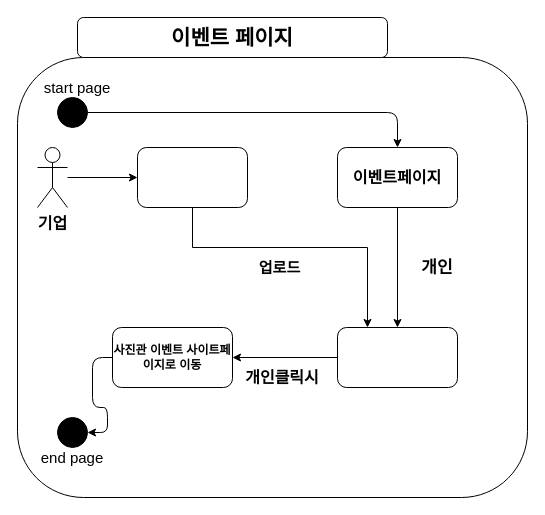
The diagram is 545 pixels wide and 515 high, and some of its shapes have lost their labels. The centre of each missing label's shape, as x and y in pixels:
"각 이벤트 목록" belongs at (x=397, y=357).
"이벤트 목록작성" belongs at (x=192, y=177).
